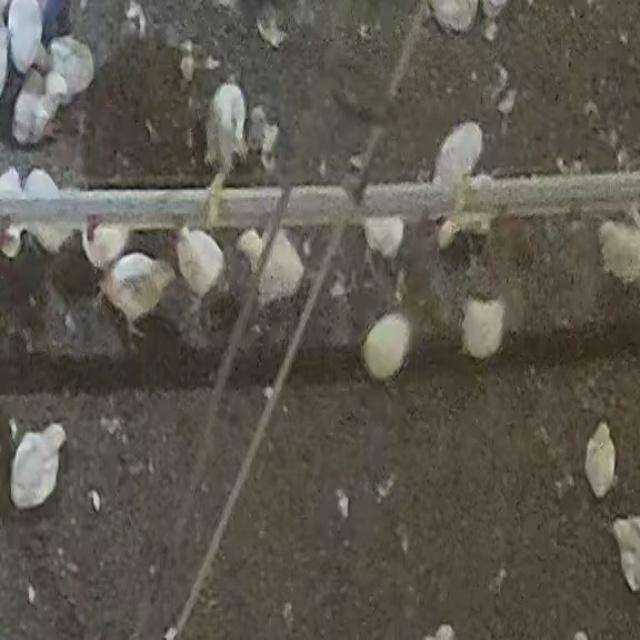chicken: (99, 251, 174, 332), (236, 226, 306, 304), (9, 423, 68, 512), (200, 74, 253, 168), (22, 167, 74, 251), (432, 122, 486, 198), (173, 230, 229, 300), (11, 68, 58, 148), (361, 313, 414, 382), (47, 36, 98, 104), (48, 242, 104, 303), (459, 296, 507, 362), (439, 195, 491, 254), (6, 0, 44, 76), (597, 219, 640, 284), (584, 422, 617, 500), (83, 223, 131, 271), (610, 516, 640, 592), (247, 105, 280, 173), (363, 216, 405, 261), (497, 274, 527, 337), (430, 0, 478, 33), (255, 6, 288, 50), (23, 166, 62, 198), (34, 422, 66, 454), (236, 229, 264, 263), (479, 0, 509, 30), (550, 154, 586, 178), (287, 1, 315, 31), (126, 1, 148, 38), (0, 26, 11, 100), (178, 39, 196, 84), (44, 70, 68, 103), (1, 225, 23, 259), (438, 219, 460, 252), (49, 38, 73, 68), (495, 87, 517, 118), (0, 166, 23, 194), (99, 413, 123, 438), (374, 475, 395, 501), (489, 567, 508, 595), (427, 622, 454, 640), (336, 489, 350, 518), (329, 280, 347, 300), (483, 21, 498, 44), (204, 53, 222, 72), (583, 100, 599, 120), (616, 147, 630, 169), (348, 153, 364, 172), (88, 489, 101, 512), (356, 23, 372, 41), (163, 624, 178, 640), (400, 533, 410, 556), (8, 418, 18, 440), (263, 385, 275, 402), (556, 156, 568, 173), (282, 602, 292, 622), (27, 584, 36, 604), (573, 633, 588, 640)
